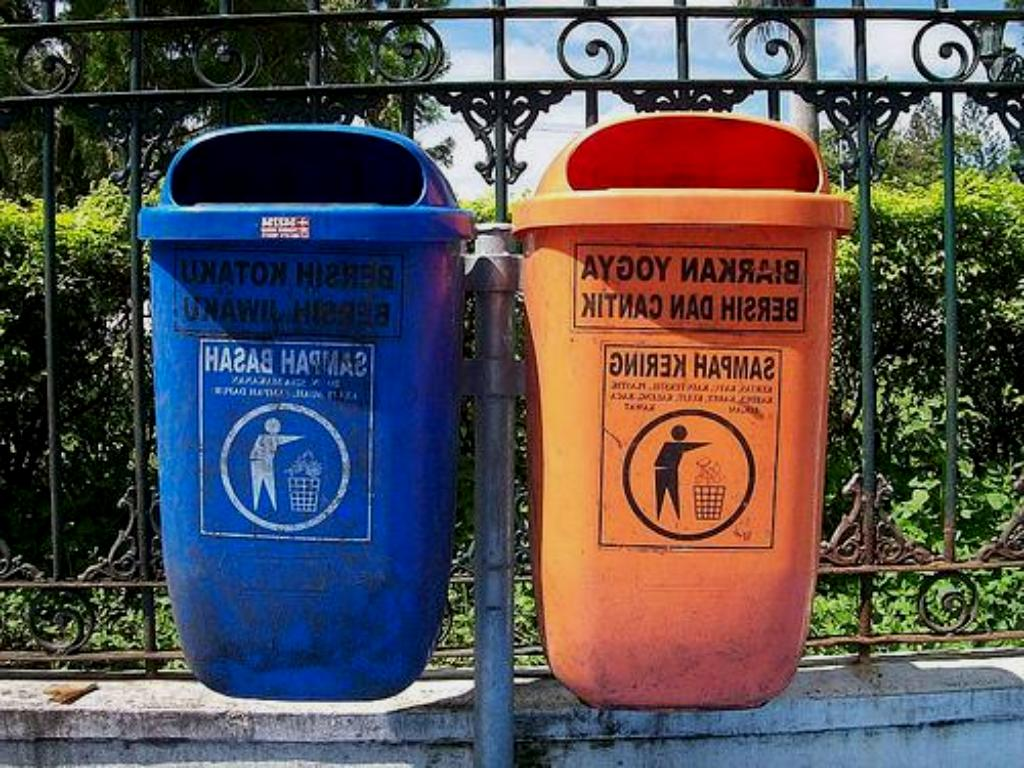dustbin: (107, 89, 497, 721), (486, 101, 865, 730)
